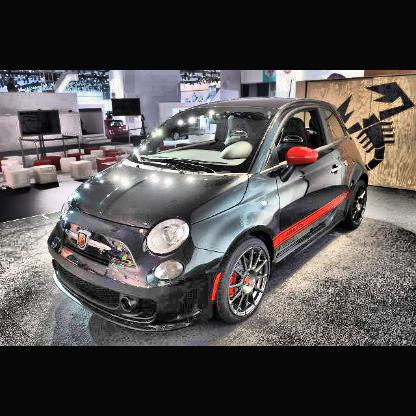FIAT 500 Abarth 2012: (49, 98, 370, 334)
